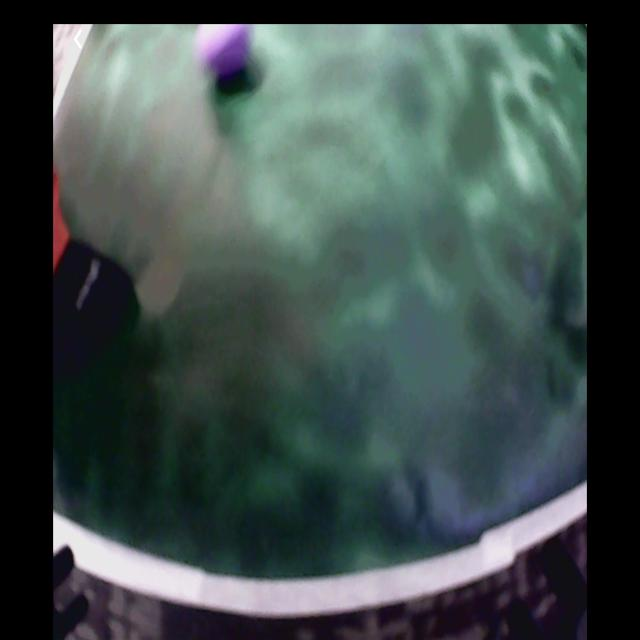ball: (200, 26, 250, 79)
